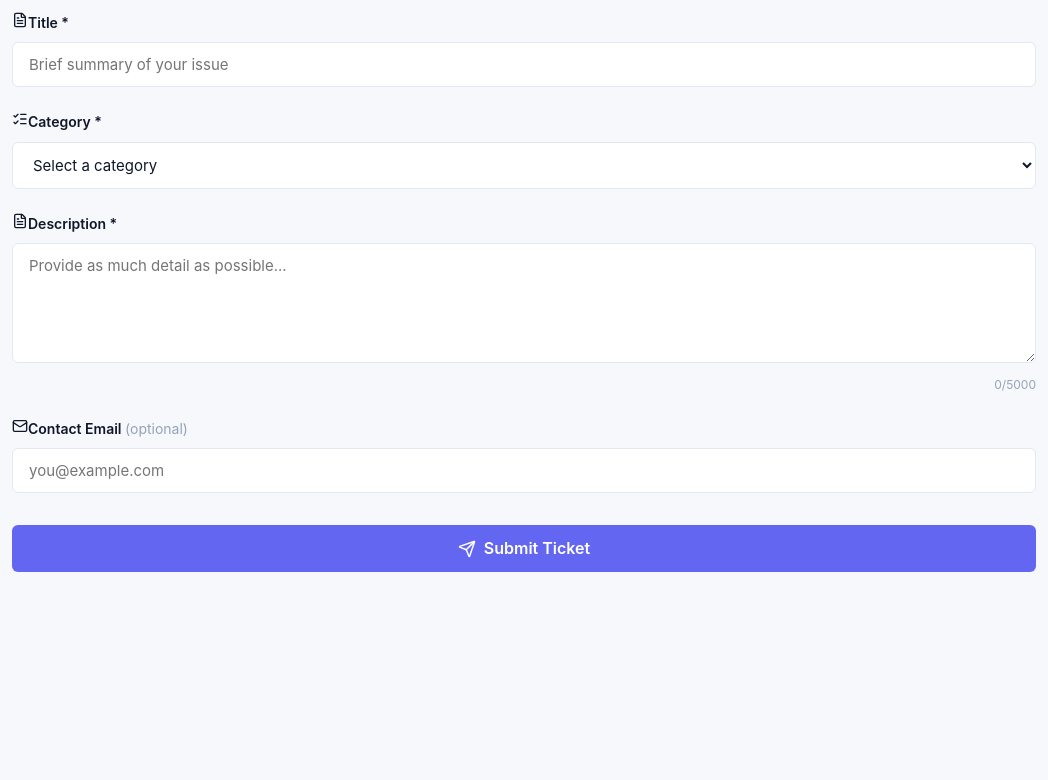
Test: TicketForm Component › validates email format on submission
Type "Test Title" into the field labelled "Title *" at (524, 65), box [12,42,1036,87]
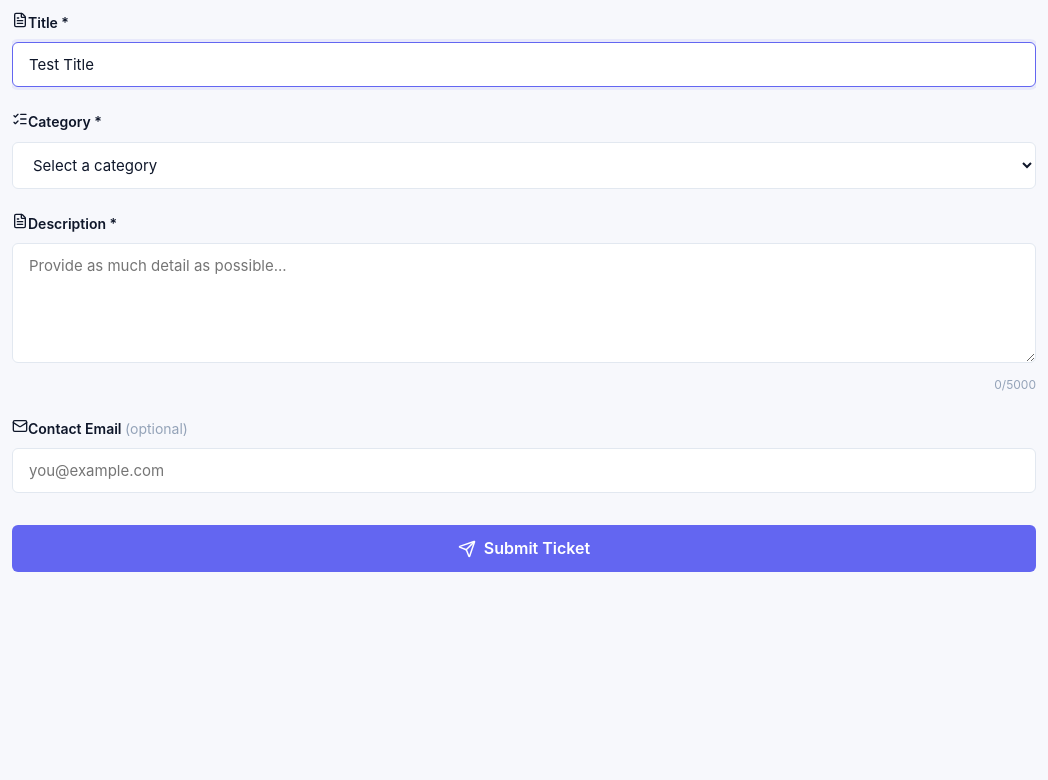
Select "Bug Report" in the dropdown labelled "Category *" at (524, 165), box [12,142,1036,189]
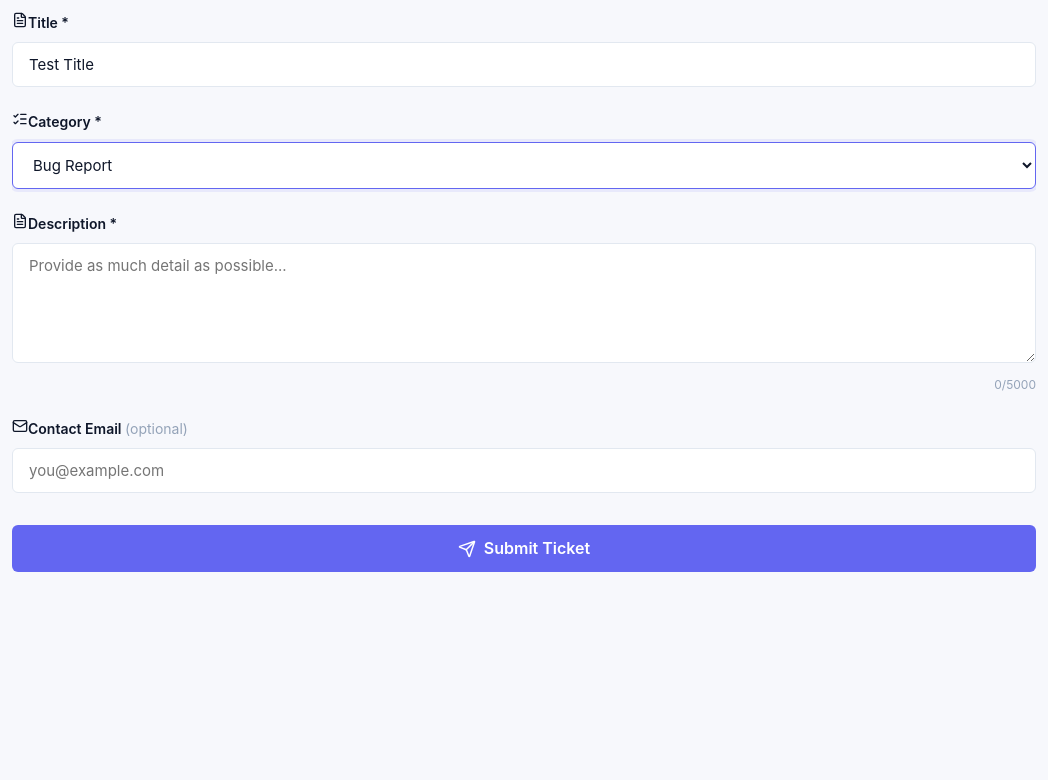
Type "Test Description" into the text box labelled "Description *" at (524, 303), box [12,243,1036,363]
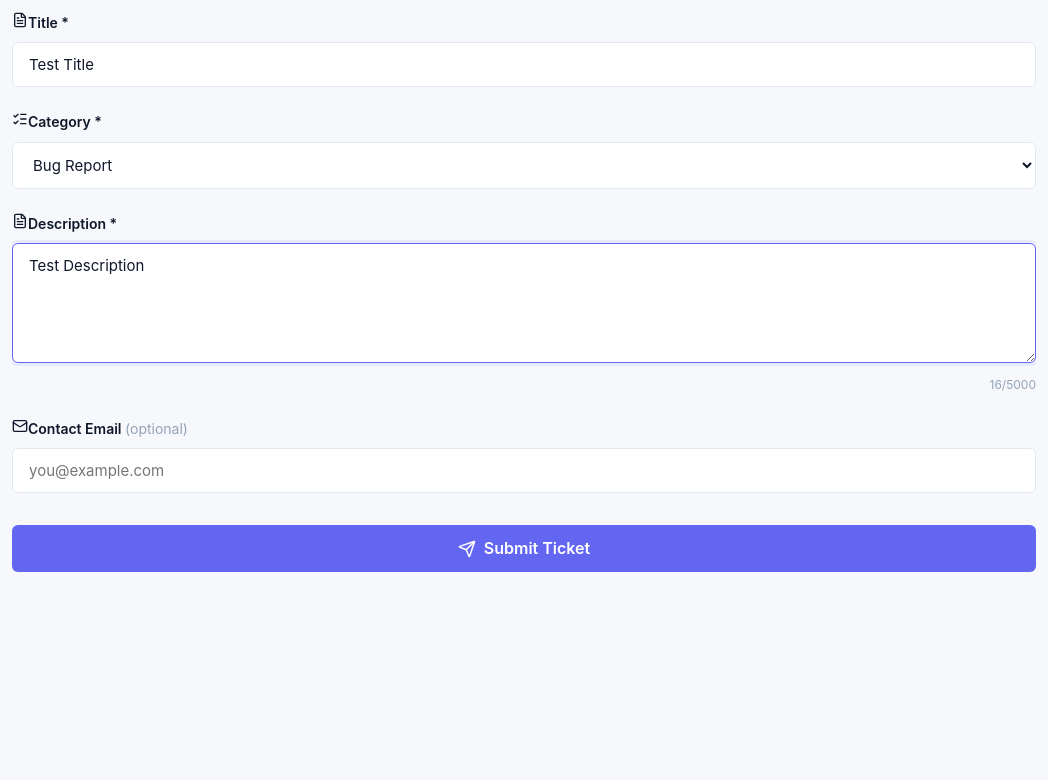
Type "invalid-email" into the field labelled "Contact Email (optional)" at (524, 471), box [12,448,1036,493]
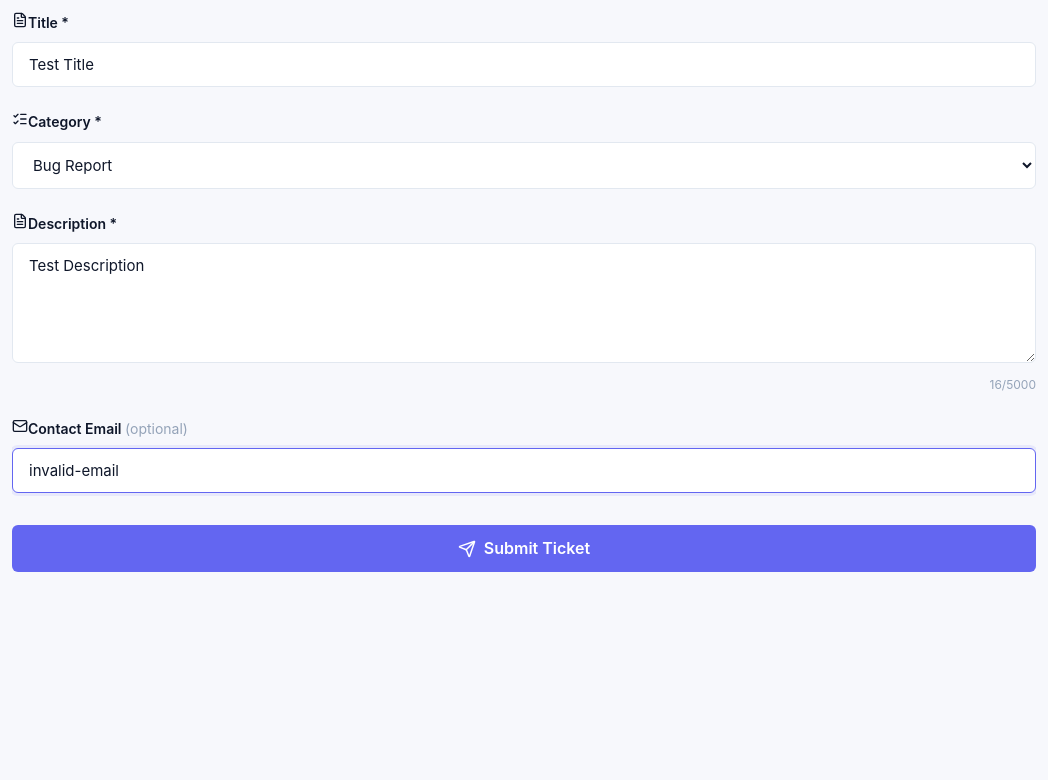
Click the button "Submit Ticket" at (524, 548), box [12,525,1036,572]
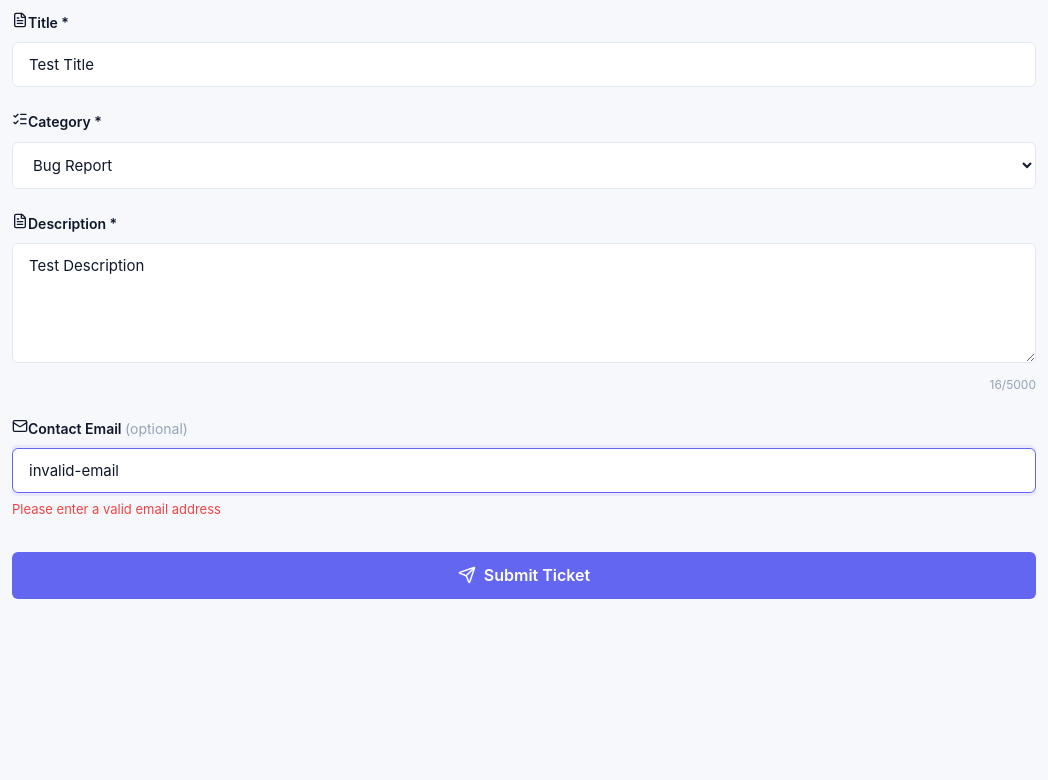
expect the text "Please enter a valid email address" is shown: met, box [12,501,221,517]
